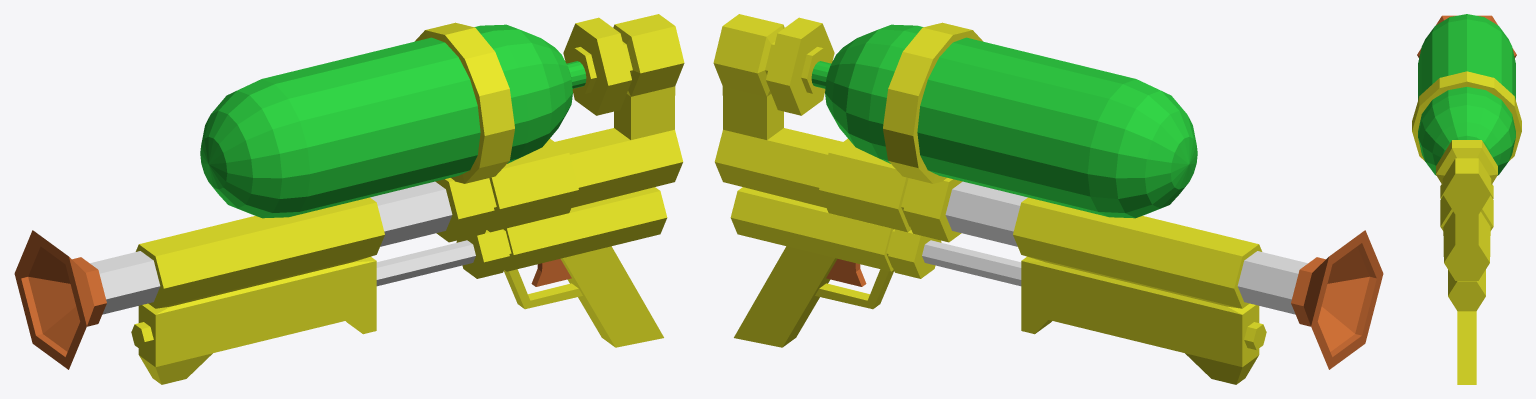
File: WaterGun.fbx
3 views of the same model, side by side, from view 1: azimuth 30°, elevation 25°; view 2: azimuth 150°, elevation 25°; view 3: azimuth 270°, elevation 25° (orthographic). The views are drawn at different scales.
Visible parts, largest first — view 1: Sphere, Cylinder.001, Cylinder.002, Cylinder.004, Cylinder.006, Cylinder, Cylinder.005, Cylinder.003, Cylinder.007; view 2: Sphere, Cylinder.001, Cylinder.002, Cylinder.004, Cylinder.006, Cylinder, Cylinder.005, Cylinder.003, Cylinder.007; view 3: Sphere, Cylinder.002, Cylinder.004, Cylinder.005, Cylinder.006.
Part boxes in pixels (bbox=[...]): Sphere: bbox=[200, 24, 586, 218]; Cylinder.001: bbox=[131, 197, 384, 384]; Cylinder.002: bbox=[435, 14, 684, 242]; Cylinder.004: bbox=[456, 187, 667, 347]; Cylinder.006: bbox=[14, 230, 106, 369]; Cylinder: bbox=[90, 181, 452, 314]; Cylinder.005: bbox=[415, 22, 514, 183]; Cylinder.003: bbox=[376, 240, 475, 286]; Cylinder.007: bbox=[531, 259, 571, 286]; Sphere: bbox=[811, 24, 1197, 218]; Cylinder.001: bbox=[1013, 197, 1266, 384]; Cylinder.002: bbox=[713, 14, 962, 242]; Cylinder.004: bbox=[730, 187, 941, 347]; Cylinder.006: bbox=[1291, 230, 1383, 369]; Cylinder: bbox=[945, 181, 1307, 314]; Cylinder.005: bbox=[883, 22, 982, 183]; Cylinder.003: bbox=[922, 240, 1021, 286]; Cylinder.007: bbox=[826, 259, 866, 286]; Sphere: bbox=[1418, 14, 1515, 175]; Cylinder.002: bbox=[1436, 140, 1497, 280]; Cylinder.004: bbox=[1448, 270, 1485, 384]; Cylinder.005: bbox=[1412, 71, 1521, 160]; Cylinder.006: bbox=[1417, 15, 1516, 58].
Bounding box in the file's own units: 668 × 362 × 149.
